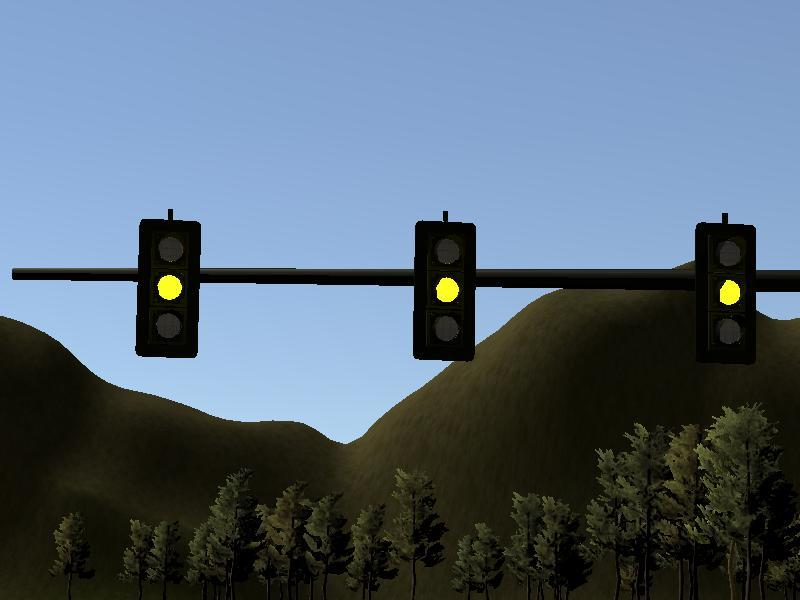Yellow: (694, 222, 757, 365), (414, 221, 476, 361), (138, 220, 200, 358)
